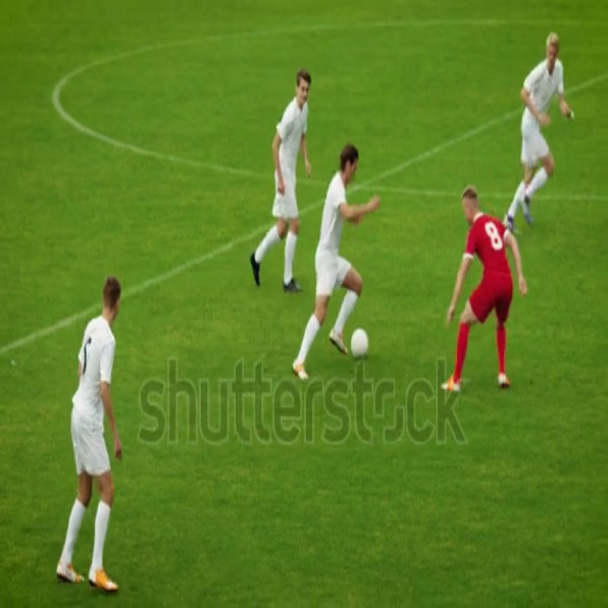ball: (353, 326, 369, 361)
